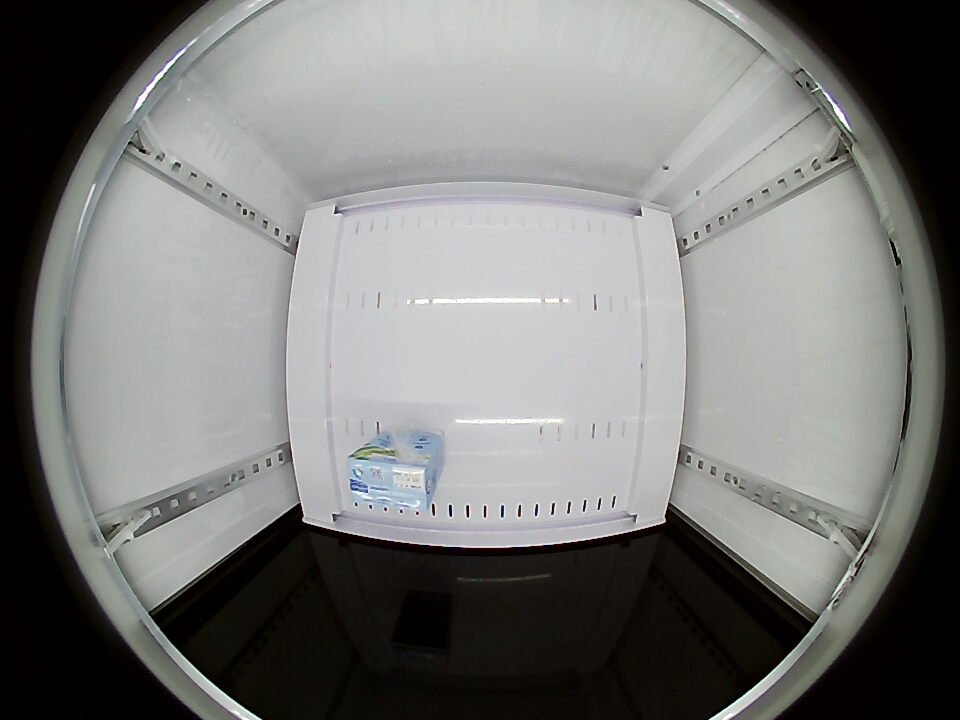weitanaiditang: (346, 448, 439, 515)
